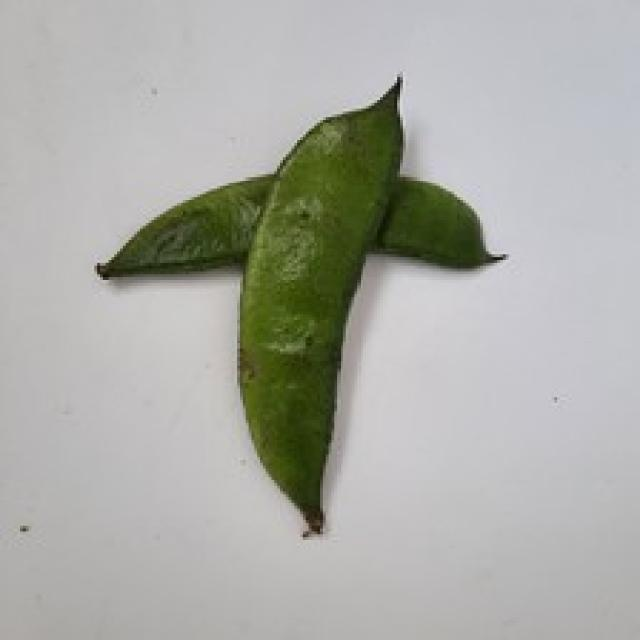Bean: (234, 72, 406, 534)
